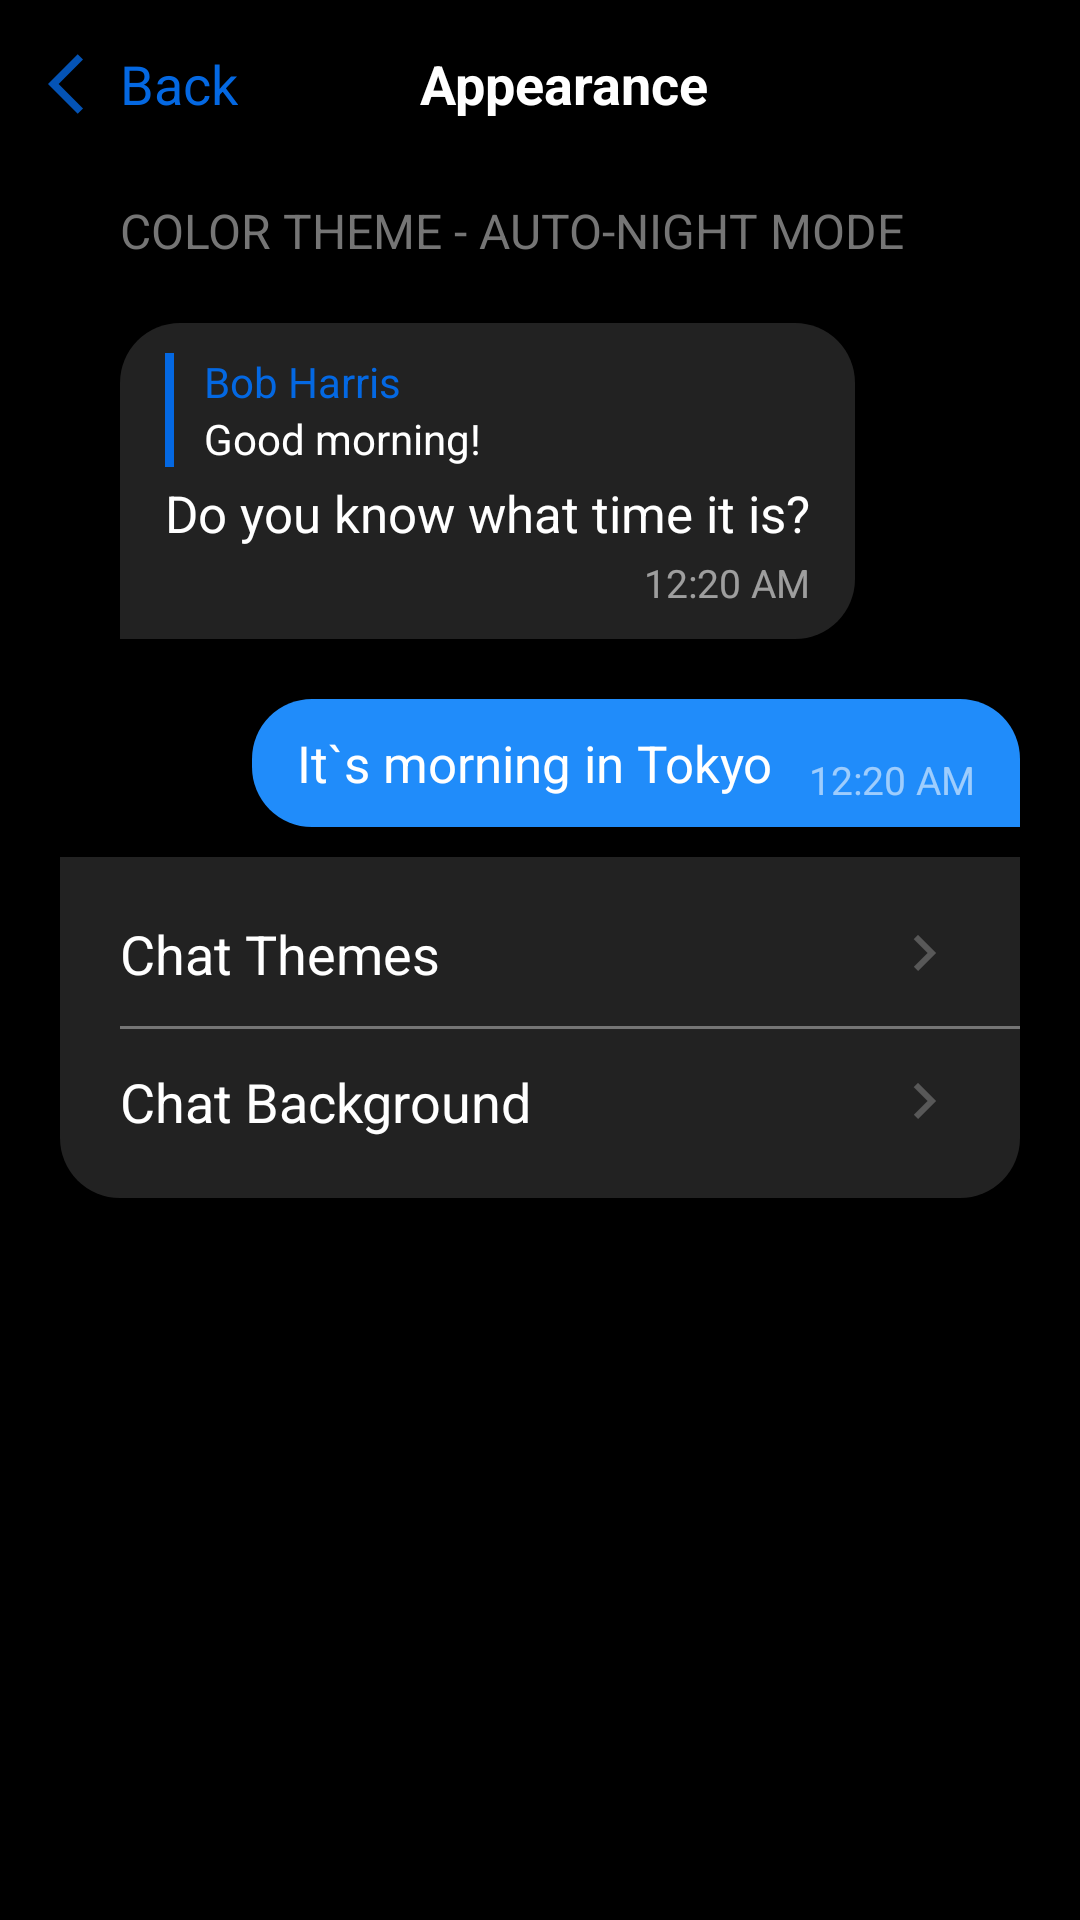

Icons on this 1080 × 1920 Android screen, each with the point to tap as [x,y]:
arrow right: [925,953], [925,1101]
